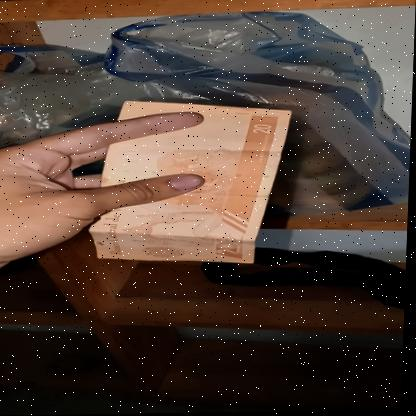vef_back: (89, 99, 293, 266)
